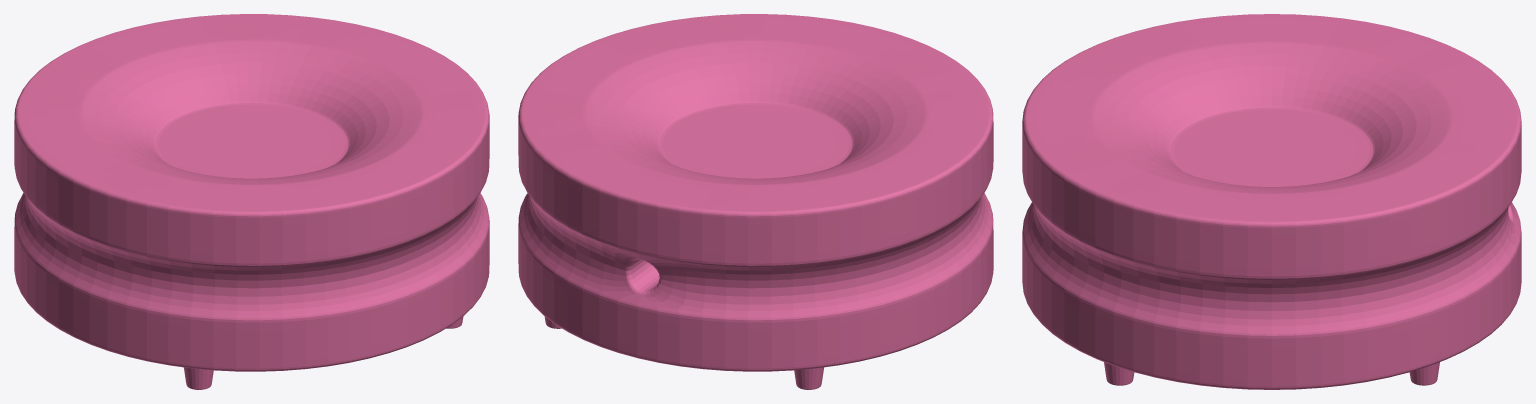
The model's file is canister_top_disc.fbx.
3 renders of one model, left to right at view 1: azimuth 30°, elevation 25°; view 2: azimuth 150°, elevation 25°; view 3: azimuth 270°, elevation 25°, orthographic. The views are drawn at different scales.
Visible parts, largest first — view 1: Top_Disc; view 2: Top_Disc; view 3: Top_Disc.
Boxes of the visible parts, x1,y1,x2,y2 form: Top_Disc: (14, 14, 489, 389); Top_Disc: (518, 14, 993, 389); Top_Disc: (1022, 14, 1521, 389).
Bounding box in the file's own units: 39.74 × 17.41 × 39.74.
